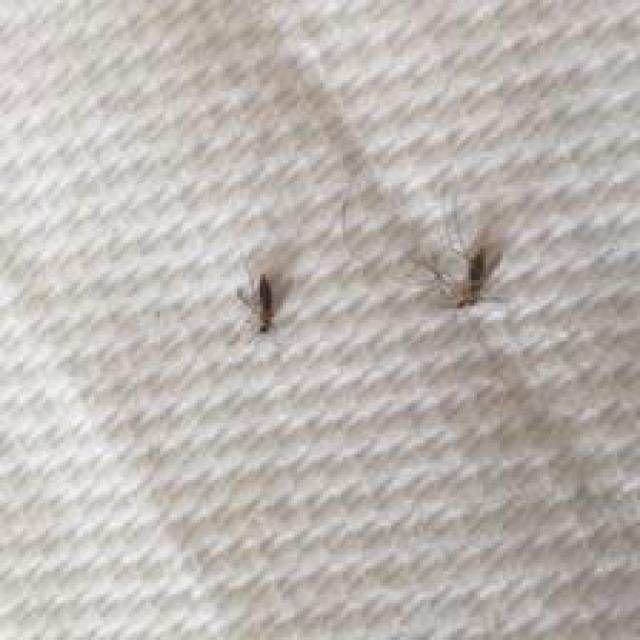Culex: (253, 273, 276, 333)
